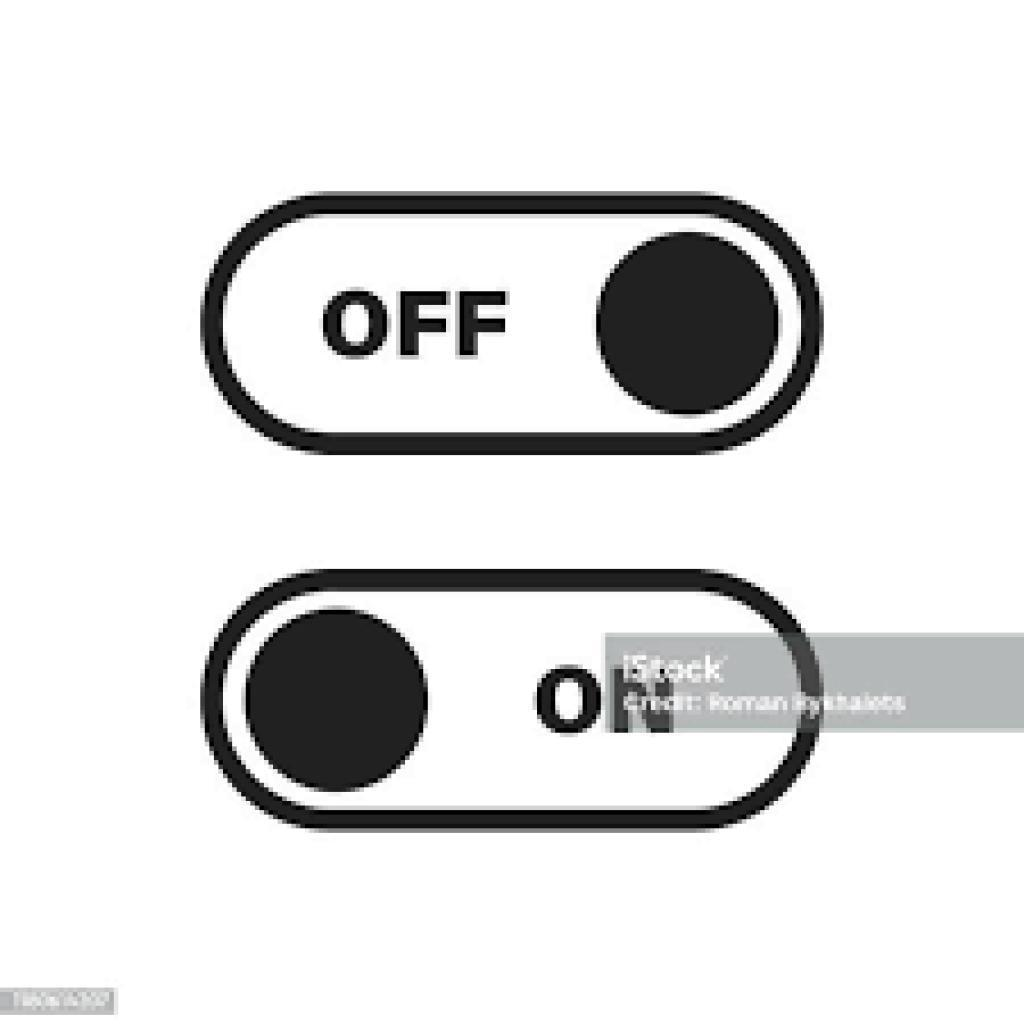switch: (202, 562, 825, 834), (200, 190, 823, 460)
